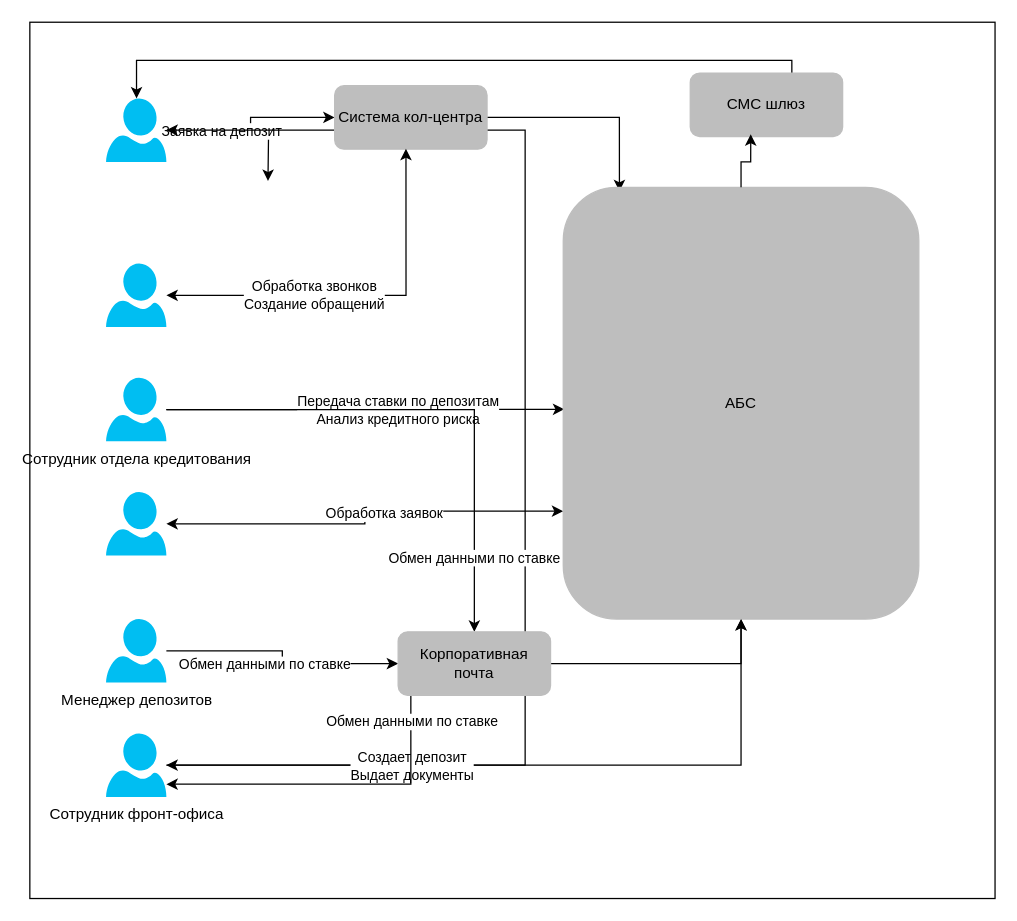
Some shapes in this 1017 by 921 pixel diagram are drawn without their labels. The shapes that lost their labels are listed below. From the top down, each one's centre as x and y in pixels, then its label:
At point 135,129: "Клиент".
At point 135,294: "Сотрудник кол-центра".
At point 135,523: "Сотрудник бек-офиса".
